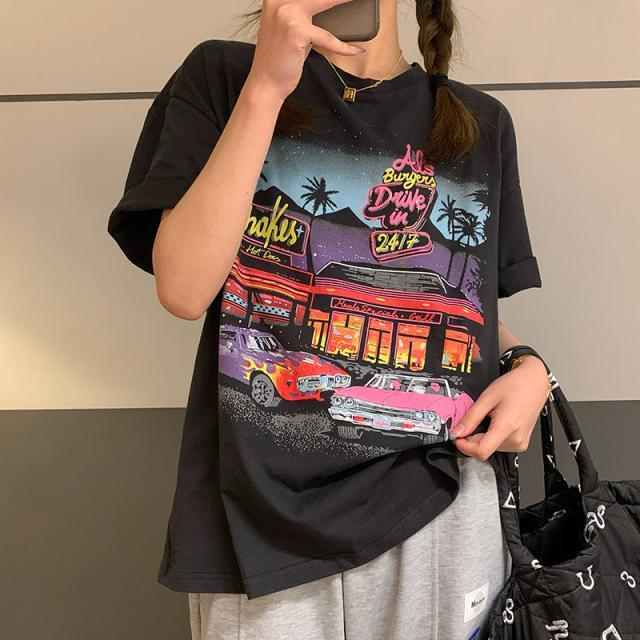Shirt: (105, 37, 544, 596)
